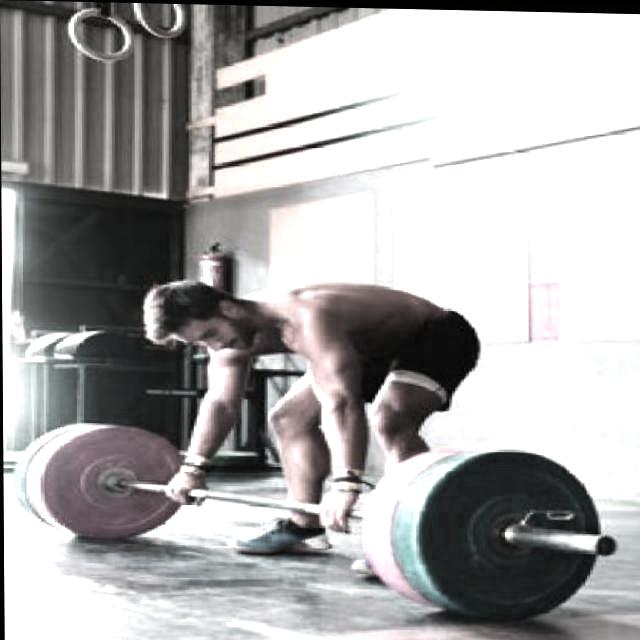barbell: (410, 440, 634, 627)
